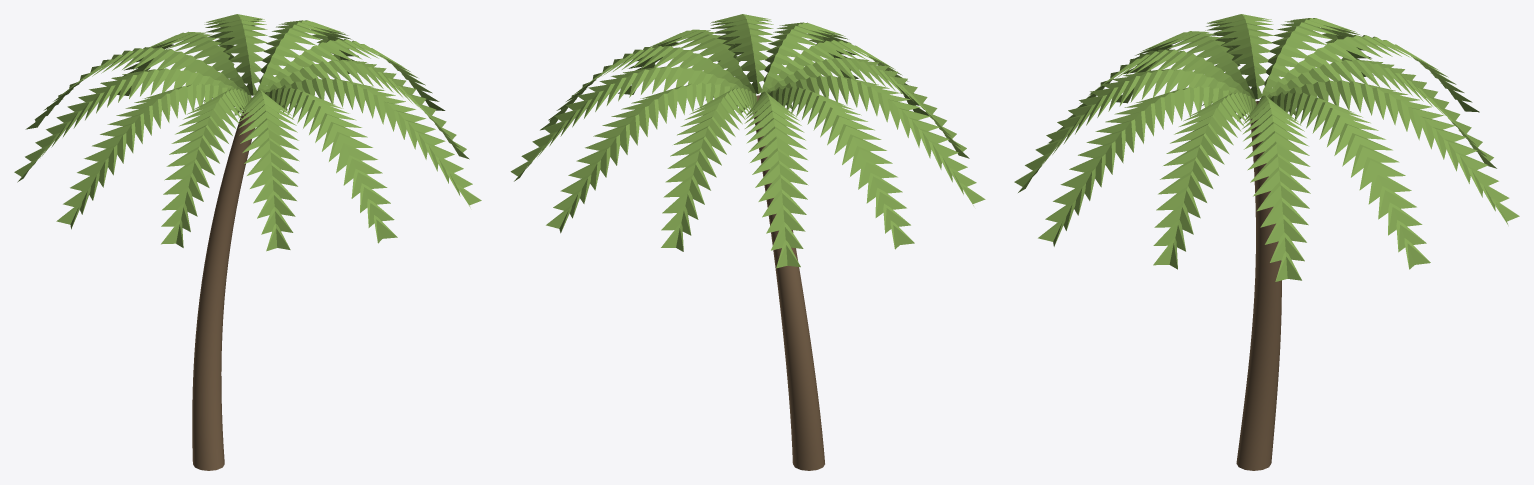
The model's file is palm.glb.
3 renders of one model, left to right at view 1: azimuth 30°, elevation 25°; view 2: azimuth 150°, elevation 25°; view 3: azimuth 270°, elevation 25°, orthographic. The views are drawn at different scales.
Visible parts, largest first — view 1: curved trunk, palm frond 7, palm frond 8, palm frond 9, palm frond 6, palm frond 10, palm frond 5, palm frond 11, palm frond 2, palm frond 4, palm frond 1, palm frond 0 (+1 smaller); view 2: curved trunk, palm frond 4, palm frond 5, palm frond 3, palm frond 2, palm frond 6, palm frond 1, palm frond 7, palm frond 10, palm frond 0, palm frond 9, palm frond 11 (+1 smaller); view 3: curved trunk, palm frond 0, palm frond 1, palm frond 11, palm frond 10, palm frond 2, palm frond 9, palm frond 3, palm frond 6, palm frond 5, palm frond 4, palm frond 7 (+1 smaller).
Part boxes in pixels (box(x1,y1,x2,y2)): curved trunk: box(192, 97, 254, 470); palm frond 7: box(161, 88, 251, 247); palm frond 8: box(238, 89, 299, 251); palm frond 9: box(265, 87, 397, 243); palm frond 6: box(56, 83, 241, 229); palm frond 10: box(274, 78, 481, 207); palm frond 5: box(14, 68, 234, 182); palm frond 11: box(263, 59, 469, 159); palm frond 2: box(204, 14, 267, 95); palm frond 4: box(25, 47, 245, 129); palm frond 1: box(257, 20, 358, 90); palm frond 0: box(261, 39, 445, 110); curved trunk: box(753, 95, 824, 470); palm frond 4: box(744, 91, 808, 268); palm frond 5: box(768, 87, 914, 249); palm frond 3: box(661, 87, 757, 251); palm frond 2: box(546, 83, 744, 233); palm frond 6: box(768, 75, 985, 205); palm frond 1: box(510, 66, 745, 181); palm frond 7: box(766, 57, 969, 158); palm frond 10: box(710, 14, 773, 93); palm frond 0: box(540, 45, 752, 130); palm frond 9: box(761, 22, 858, 93); palm frond 11: box(618, 29, 756, 94); curved trunk: box(1236, 101, 1281, 470); palm frond 0: box(1242, 95, 1310, 281); palm frond 1: box(1270, 92, 1430, 269); palm frond 11: box(1153, 92, 1256, 269); palm frond 10: box(1038, 86, 1243, 246); palm frond 2: box(1269, 80, 1519, 225); palm frond 9: box(1014, 68, 1247, 192); palm frond 3: box(1267, 59, 1496, 168); palm frond 6: box(1205, 14, 1274, 99); palm frond 5: box(1261, 18, 1373, 96); palm frond 4: box(1266, 35, 1479, 112); palm frond 7: box(1116, 31, 1255, 103).
Bounding box in the file's own units: 5.57 × 5.09 × 5.49.
